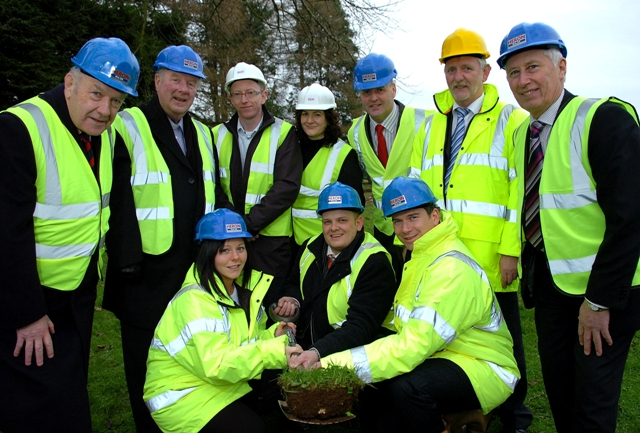Helmet: (55, 19, 144, 140), (495, 19, 580, 123), (194, 207, 263, 284), (298, 179, 377, 245), (143, 31, 204, 115), (432, 25, 493, 108), (380, 173, 442, 251), (351, 50, 403, 122), (220, 56, 273, 121), (293, 79, 338, 142)
Reflective vest: (319, 217, 523, 414), (507, 96, 640, 296), (141, 262, 290, 433), (1, 94, 115, 299), (419, 91, 529, 295), (114, 105, 219, 258), (212, 114, 301, 246), (348, 108, 435, 239), (296, 232, 398, 336), (292, 134, 359, 247)
